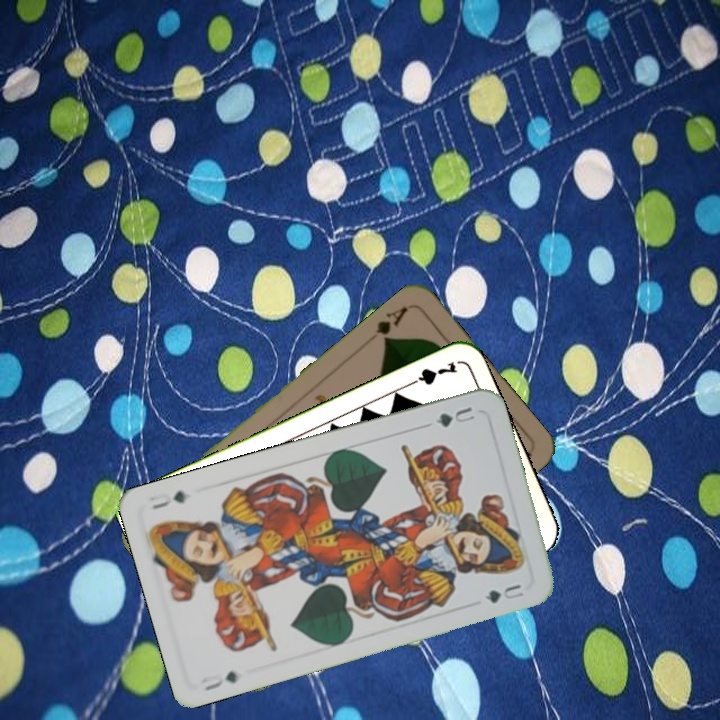G7: (402, 357, 460, 390)
GA: (372, 301, 411, 346)
GU: (431, 402, 478, 430), (196, 666, 241, 694)
